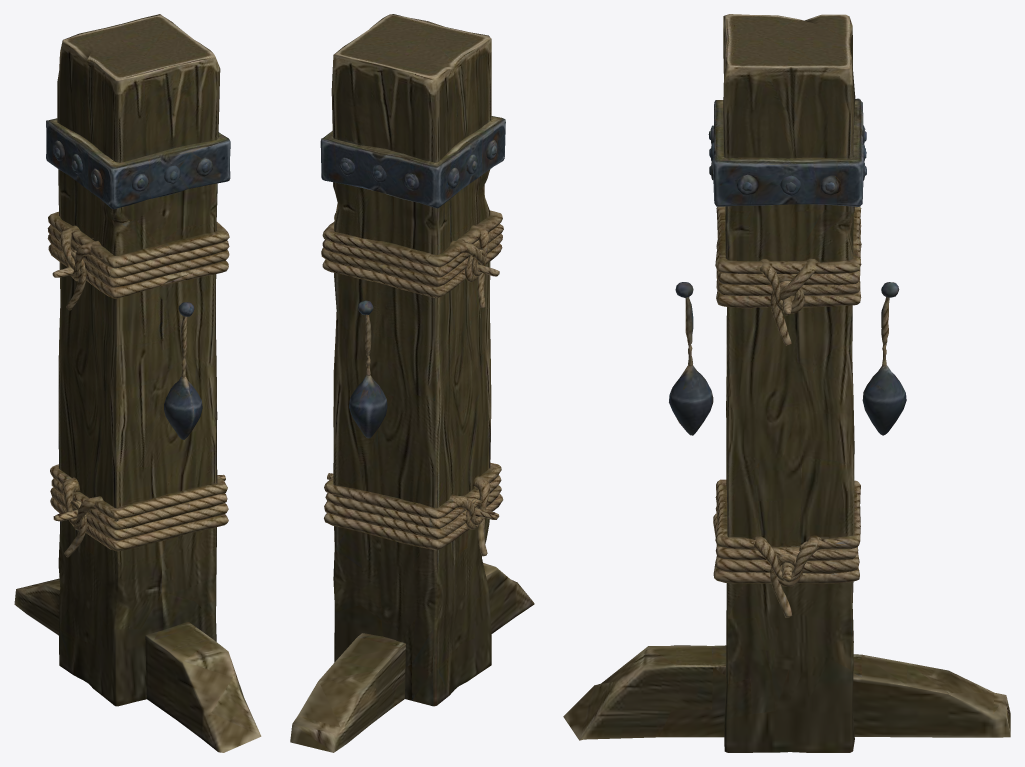
The model's file is av_viga.glb.
The picture shows the model from 3 angles, left to right: view 1: azimuth 30°, elevation 25°; view 2: azimuth 150°, elevation 25°; view 3: azimuth 270°, elevation 25°; orthographic projection. The views are drawn at different scales.
Parts seen in each view (by area): view 1: Mesh_0; view 2: Mesh_0; view 3: Mesh_0.
Boxes of the visible parts, x1,y1,x2,y2 form: Mesh_0: [14, 14, 261, 752]; Mesh_0: [290, 14, 534, 752]; Mesh_0: [563, 14, 1010, 752].
Bounding box in the file's own units: 0.2881 × 1 × 0.5918.
Materials: 1 (1 with a texture image).
